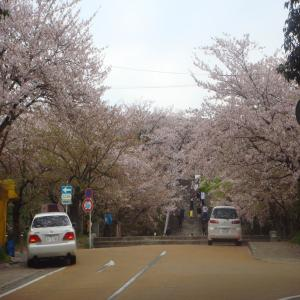Vehicle-registration-plate: (47, 235, 58, 243), (223, 229, 230, 234)
